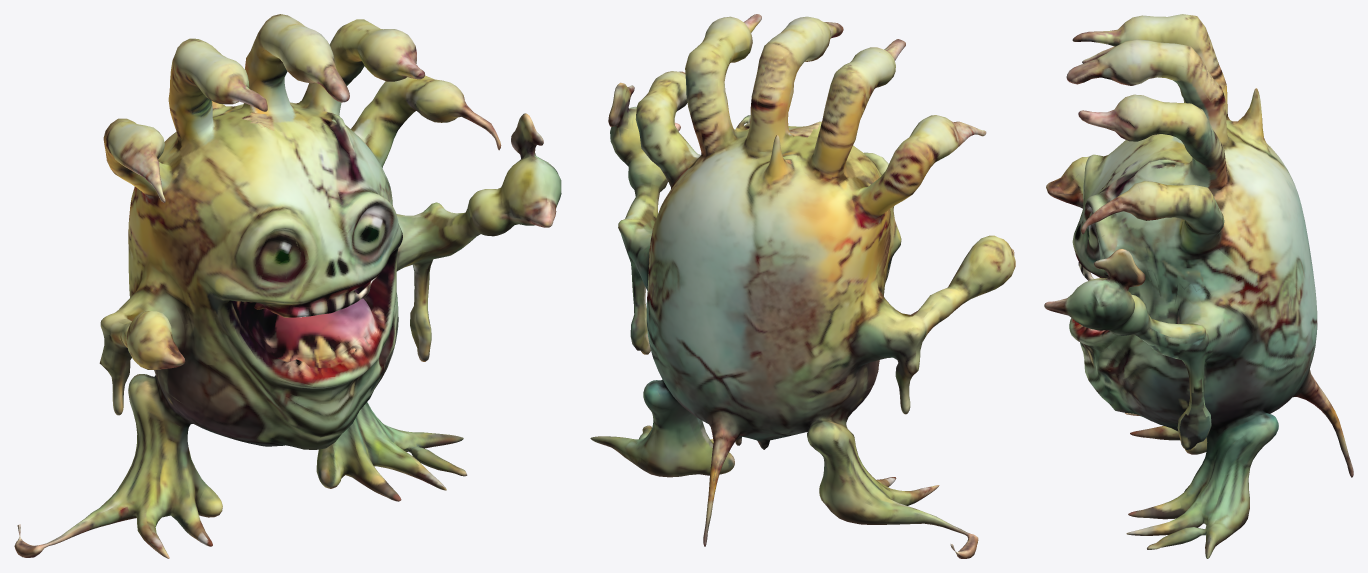
Rendered from base_basic_pbr.glb.
3 renders of one model, left to right at view 1: azimuth 30°, elevation 25°; view 2: azimuth 150°, elevation 25°; view 3: azimuth 270°, elevation 25°, orthographic. The views are drawn at different scales.
Visible parts, largest first — view 1: model; view 2: model; view 3: model.
Boxes of the visible parts, left/top/right/bottom form: model: left=14, top=14, right=561, bottom=558; model: left=590, top=14, right=1015, bottom=558; model: left=1044, top=14, right=1353, bottom=558.
Bounding box in the file's own units: 1.84 × 1.9 × 1.19.
Materials: 1 (1 with a texture image).
